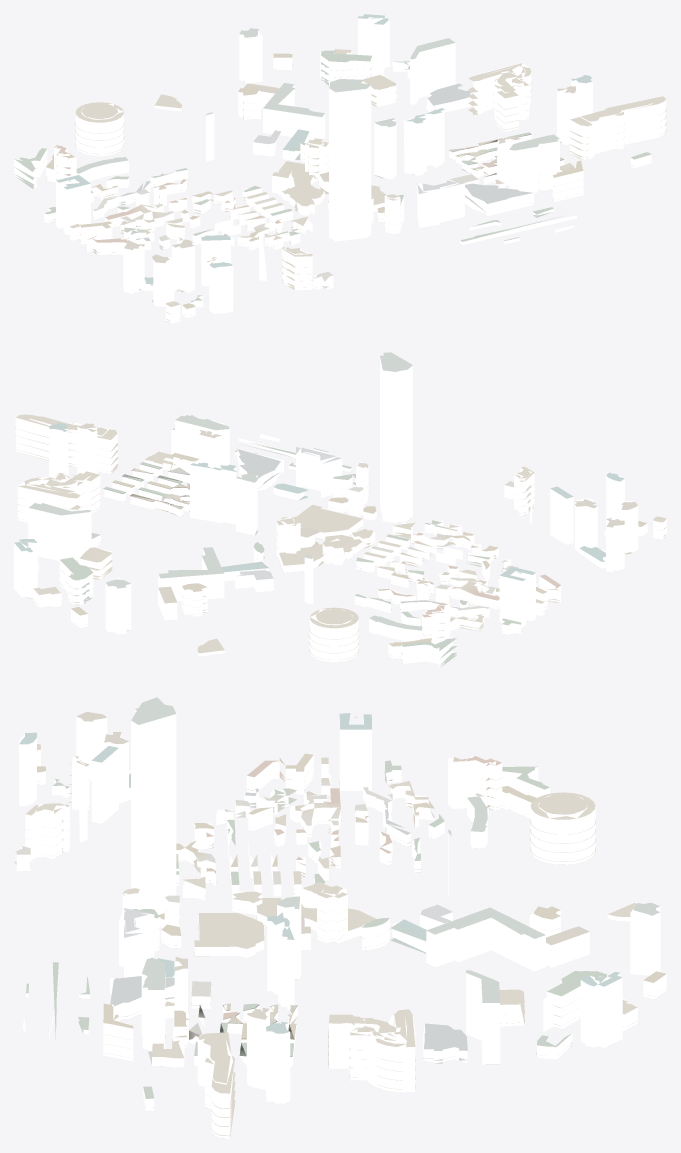
The model's file is buildings--5_0-coarse.glb.
3 views of the same model, one above another, from view 1: azimuth 30°, elevation 25°; view 2: azimuth 150°, elevation 25°; view 3: azimuth 270°, elevation 25° (orthographic). The views are drawn at different scales.
Parts seen in each view (by area): view 1: block_-5_0_office, block_-5_0_residential, block_-5_0_roof; view 2: block_-5_0_office, block_-5_0_residential, block_-5_0_roof; view 3: block_-5_0_residential, block_-5_0_office, block_-5_0_roof.
Part boxes in pixels (left/top/right/bottom): block_-5_0_office: left=56, top=16, right=592, bottom=313; block_-5_0_residential: left=14, top=50, right=665, bottom=323; block_-5_0_roof: left=15, top=14, right=666, bottom=323; block_-5_0_office: left=14, top=357, right=638, bottom=641; block_-5_0_residential: left=15, top=418, right=666, bottom=667; block_-5_0_roof: left=14, top=352, right=666, bottom=668; block_-5_0_residential: left=16, top=749, right=666, bottom=1138; block_-5_0_office: left=19, top=709, right=660, bottom=1103; block_-5_0_roof: left=14, top=697, right=665, bottom=1138.
Size of the model in its own units: 707 by 185 by 522.
